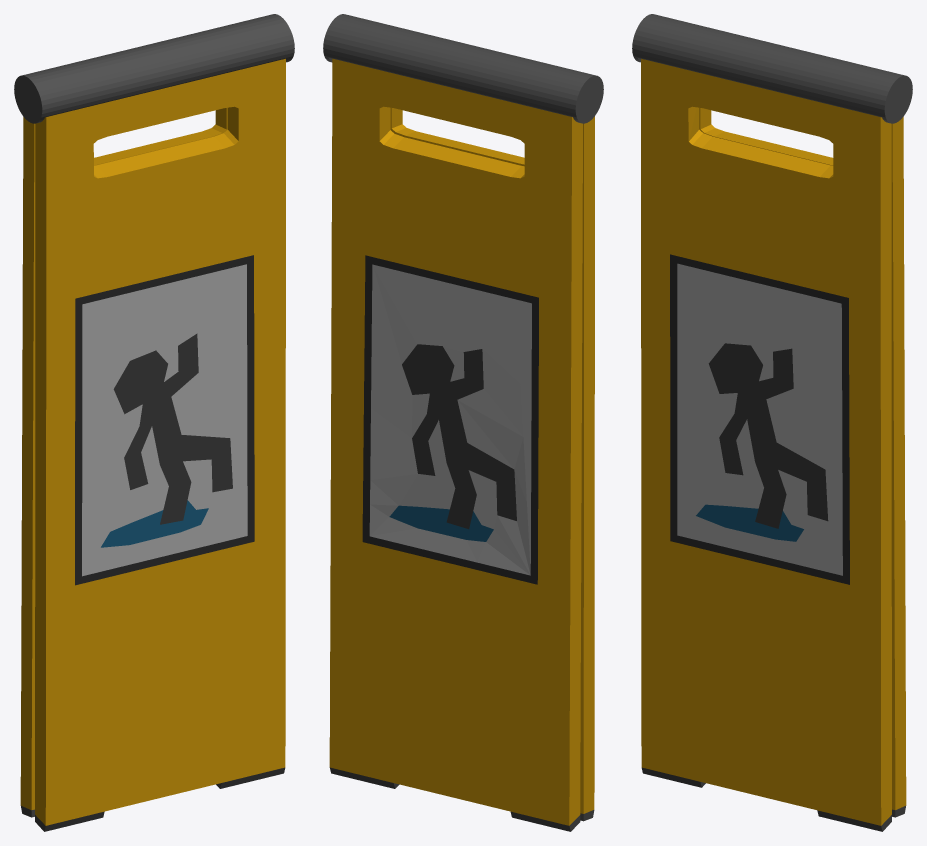
The model's file is Wet Floor Sign Standing & Folded.fbx.
3 renders of one model, left to right at view 1: azimuth 30°, elevation 25°; view 2: azimuth 150°, elevation 25°; view 3: azimuth 330°, elevation 25°, orthographic.
Visible parts, largest first — view 1: Wet Floor Sign Standing & Folded; view 2: Wet Floor Sign Standing & Folded; view 3: Wet Floor Sign Standing & Folded.
Boxes of the visible parts, x1,y1,x2,y2 form: Wet Floor Sign Standing & Folded: (14,14,294,831); Wet Floor Sign Standing & Folded: (323,14,603,831); Wet Floor Sign Standing & Folded: (632,14,912,831).
Size of the model in its own units: 35.05 by 99.28 by 6.78.
1 material, 1 textured.
